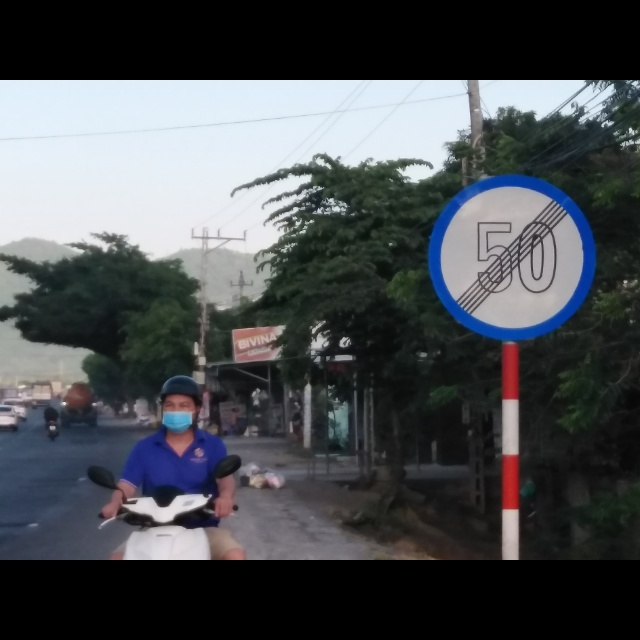Hết hạn chế tốc độ tối đa 50km/h: (424, 171, 596, 345)
